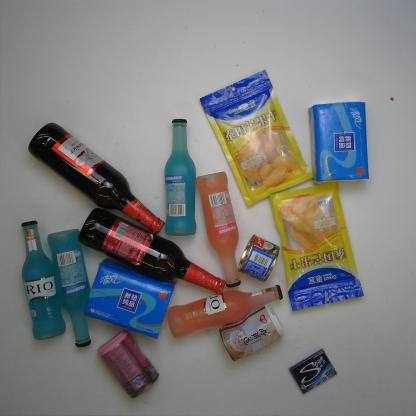Alcohol: (26, 121, 170, 235), (77, 204, 230, 296), (15, 221, 69, 343), (166, 284, 285, 338), (46, 226, 96, 348), (192, 170, 242, 289), (160, 115, 199, 241)
Canned Food: (97, 330, 159, 400), (213, 306, 284, 364), (235, 232, 282, 282)
Dried Fruit: (198, 67, 314, 208), (268, 179, 366, 314)
Gum: (286, 349, 336, 394)
Tissue: (83, 258, 177, 340), (306, 99, 372, 186)
